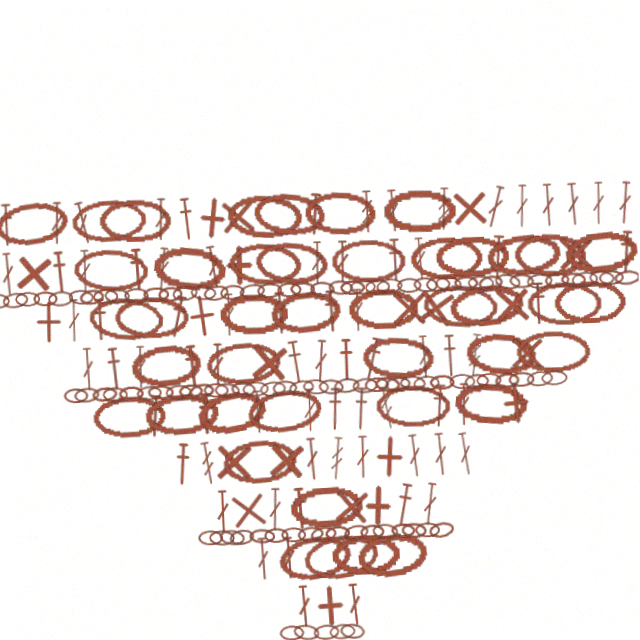chain: (267, 531, 346, 583), (293, 531, 371, 583), (152, 237, 230, 289), (191, 383, 267, 436), (255, 237, 333, 288), (255, 188, 332, 239), (242, 385, 320, 435), (87, 287, 165, 337), (0, 188, 75, 239), (346, 532, 422, 582), (449, 385, 525, 435), (462, 336, 538, 386), (422, 287, 499, 336), (229, 238, 306, 287), (229, 190, 307, 238), (448, 288, 525, 336), (74, 239, 151, 287), (487, 239, 564, 287), (359, 337, 435, 385), (269, 288, 344, 336), (565, 239, 640, 287), (140, 386, 216, 433), (307, 190, 382, 237), (217, 436, 293, 482), (128, 337, 202, 384), (204, 338, 279, 384), (333, 240, 409, 285), (515, 240, 589, 286), (372, 387, 447, 432), (514, 338, 589, 383), (114, 289, 189, 334), (75, 191, 150, 236), (282, 485, 356, 530), (527, 290, 602, 334), (102, 191, 175, 236), (386, 192, 460, 236), (89, 388, 162, 432), (412, 241, 486, 284), (437, 241, 511, 284), (219, 290, 290, 334), (348, 290, 420, 333), (554, 290, 626, 333), (322, 535, 393, 578), (495, 279, 523, 298), (335, 524, 362, 543), (281, 622, 309, 640), (302, 525, 329, 543), (420, 525, 447, 543), (3, 280, 30, 298), (240, 280, 267, 298), (211, 525, 237, 543), (221, 525, 247, 543), (286, 378, 312, 396), (204, 280, 230, 298), (479, 280, 505, 298), (289, 525, 316, 542), (364, 525, 391, 542), (300, 378, 327, 395), (331, 378, 358, 395), (397, 378, 424, 395), (524, 378, 551, 395), (191, 280, 218, 297), (377, 280, 404, 297), (436, 280, 463, 297), (328, 623, 354, 640), (393, 525, 419, 542), (71, 378, 97, 395), (89, 378, 115, 395), (186, 378, 212, 395), (228, 378, 254, 395), (372, 378, 398, 395), (69, 280, 95, 297), (80, 280, 106, 297), (105, 280, 131, 297), (173, 280, 199, 297), (329, 280, 355, 297), (414, 280, 440, 297), (510, 280, 536, 297), (590, 280, 616, 297), (257, 379, 284, 395), (382, 379, 409, 395), (302, 624, 328, 640), (318, 624, 344, 640), (201, 526, 227, 542), (241, 526, 267, 542), (163, 379, 189, 395), (411, 379, 437, 395), (492, 379, 518, 395), (469, 281, 495, 297), (528, 281, 554, 297), (573, 281, 599, 297), (100, 379, 125, 395), (134, 379, 159, 395), (212, 379, 237, 395), (316, 379, 341, 395), (350, 379, 375, 395), (462, 379, 487, 395), (49, 281, 74, 297), (221, 281, 246, 297), (311, 281, 336, 297), (366, 281, 391, 297), (546, 281, 571, 297), (562, 281, 587, 297), (615, 281, 640, 297), (145, 379, 171, 394), (240, 379, 266, 394), (447, 379, 473, 394), (506, 379, 532, 394), (539, 379, 565, 394), (144, 281, 170, 296), (351, 281, 377, 296), (268, 624, 293, 639), (190, 526, 215, 541), (256, 526, 281, 541), (273, 526, 298, 541), (317, 526, 342, 541), (352, 526, 377, 541), (383, 526, 408, 541), (407, 526, 432, 541), (61, 379, 86, 394), (116, 379, 141, 394), (176, 379, 201, 394), (201, 379, 226, 394), (270, 379, 295, 394), (362, 379, 387, 394), (427, 379, 452, 394), (474, 379, 499, 394), (16, 281, 41, 296), (34, 281, 59, 296), (94, 281, 119, 296), (125, 281, 150, 296), (159, 281, 184, 296), (258, 281, 283, 296), (278, 281, 303, 296), (291, 281, 316, 296), (341, 281, 366, 296), (398, 281, 423, 296), (427, 281, 452, 296), (455, 281, 480, 296), (600, 281, 625, 296), (0, 281, 11, 297)
double: (487, 191, 512, 236), (76, 192, 98, 236), (413, 486, 433, 530), (451, 437, 470, 481), (155, 241, 174, 285), (206, 241, 225, 285), (620, 192, 638, 236), (401, 437, 418, 481), (311, 339, 328, 383), (336, 584, 353, 627), (427, 437, 444, 480), (414, 241, 431, 284), (569, 192, 586, 235), (286, 584, 302, 627), (260, 486, 276, 529), (299, 437, 315, 480), (415, 339, 431, 382), (2, 241, 18, 284), (389, 192, 405, 235), (518, 192, 534, 235), (544, 192, 560, 235), (247, 535, 262, 578), (273, 535, 288, 578), (350, 437, 365, 480), (247, 388, 262, 431), (299, 388, 314, 431), (453, 388, 468, 431), (79, 339, 94, 382), (312, 241, 327, 284), (337, 241, 352, 284), (53, 192, 68, 235), (157, 192, 172, 235), (595, 192, 610, 235), (209, 486, 223, 529), (132, 339, 146, 382), (209, 339, 223, 382), (67, 290, 81, 333), (222, 290, 236, 333), (351, 290, 365, 333), (80, 241, 94, 284)
half_double: (358, 338, 384, 383), (165, 289, 191, 334), (385, 485, 409, 530), (283, 339, 305, 383), (426, 388, 446, 432), (103, 339, 123, 383), (490, 241, 510, 285), (168, 437, 187, 481), (142, 388, 161, 432), (348, 388, 367, 432), (181, 339, 200, 383), (619, 241, 638, 285), (181, 192, 200, 236), (309, 192, 328, 236), (284, 486, 303, 529), (322, 388, 341, 431), (53, 241, 71, 284), (130, 241, 148, 284), (194, 388, 211, 431), (440, 339, 457, 382), (272, 290, 289, 333), (323, 290, 340, 333), (530, 290, 547, 333), (337, 339, 353, 382), (92, 290, 108, 333), (389, 241, 405, 284), (2, 192, 18, 235)
single: (411, 287, 461, 337), (192, 190, 240, 238), (218, 484, 265, 531), (321, 484, 368, 531), (244, 337, 291, 384), (179, 288, 226, 335), (12, 239, 59, 286), (258, 436, 304, 482), (361, 436, 407, 482), (490, 387, 536, 433), (348, 485, 393, 530), (206, 436, 251, 481), (503, 338, 548, 383), (219, 191, 264, 236), (298, 584, 342, 628), (27, 290, 71, 334), (556, 241, 600, 285), (388, 290, 431, 333), (491, 290, 534, 333), (220, 241, 263, 284), (452, 192, 495, 235)
treble: (373, 388, 394, 432), (193, 437, 212, 481), (464, 339, 483, 383), (323, 437, 341, 481), (440, 192, 456, 235), (364, 192, 378, 235)
